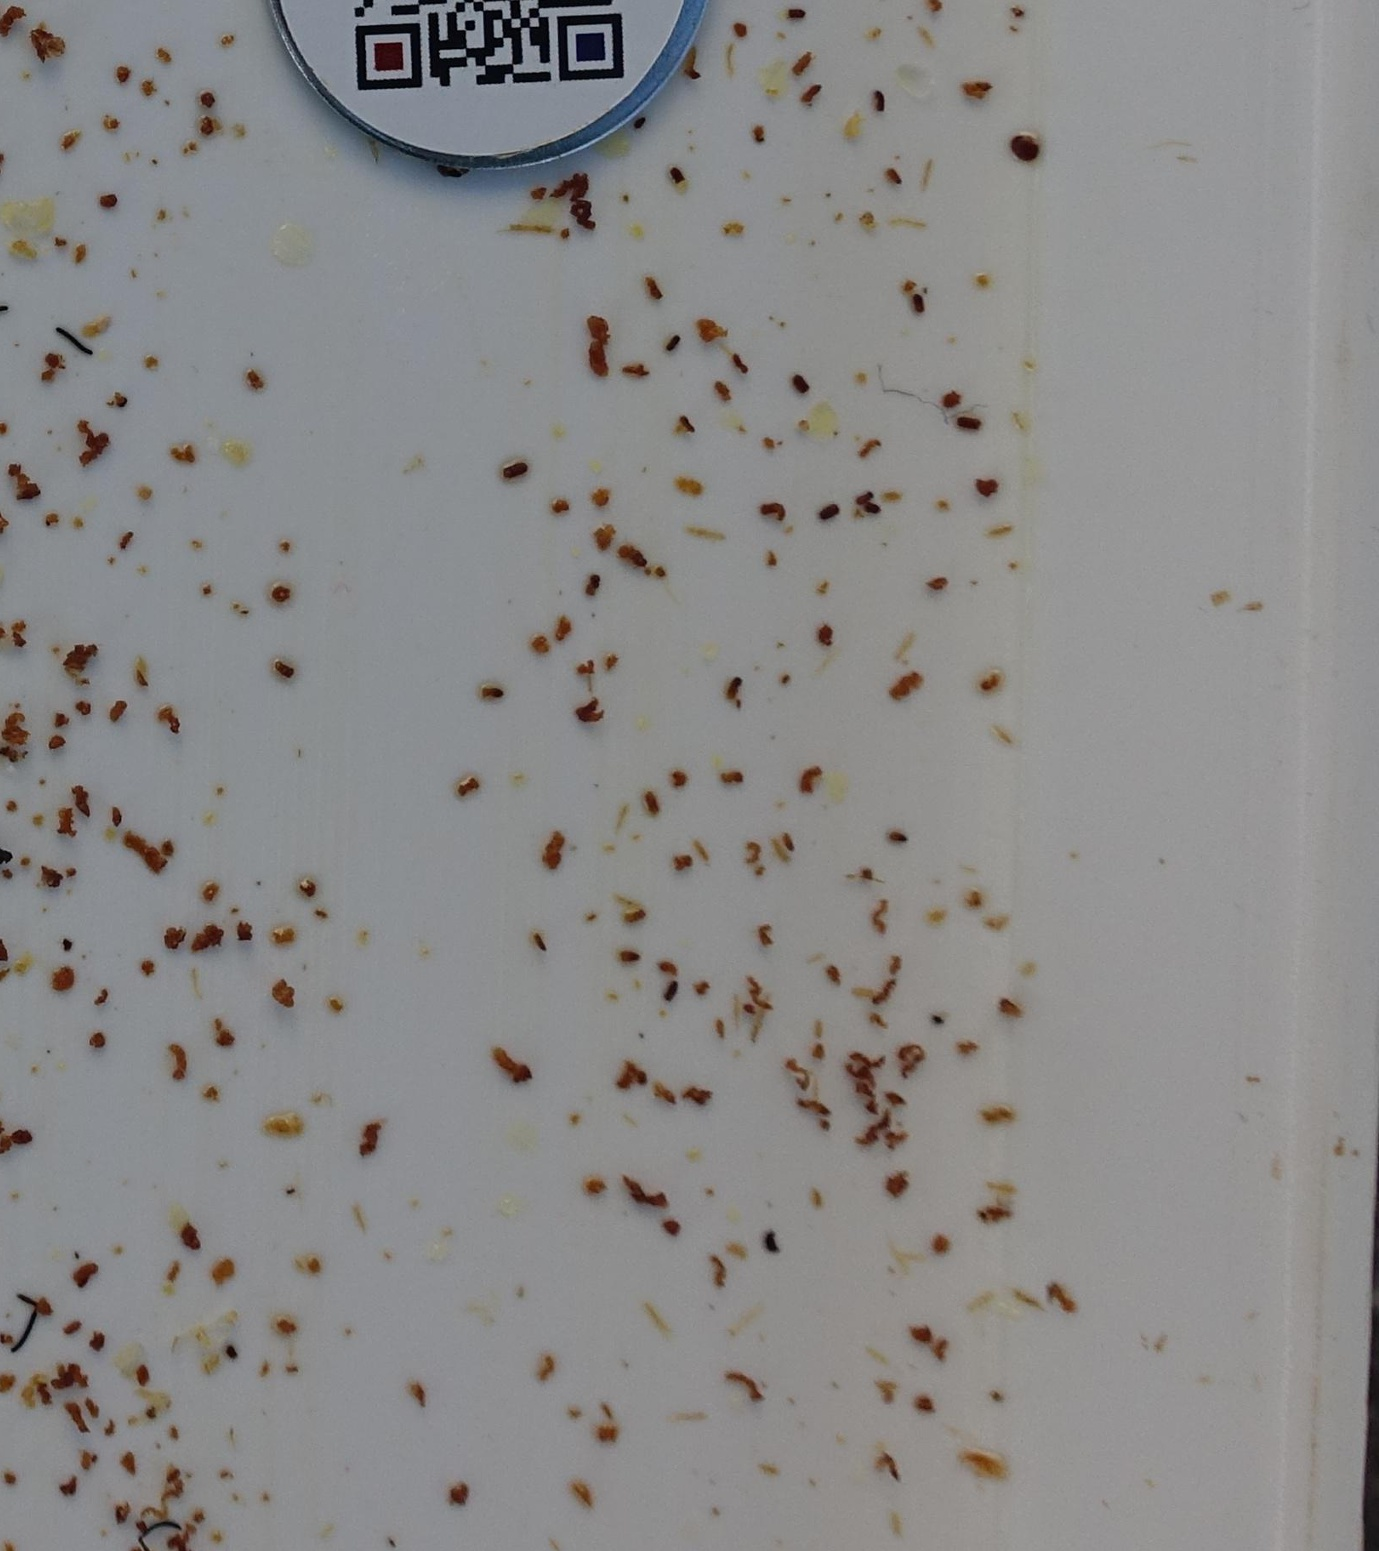Varroa: (1014, 133, 1033, 153)
